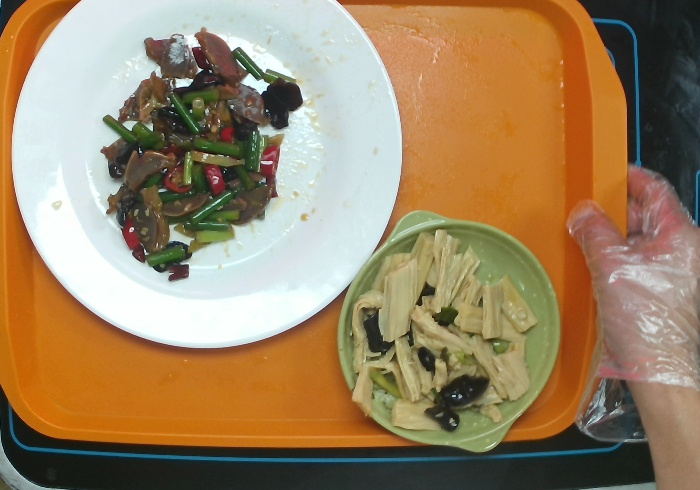NLDX-Da_Yuan_Pan: (9, 1, 410, 372)
NLDX-Lv_Hua_Shuang_Er_Die: (340, 205, 579, 459)
